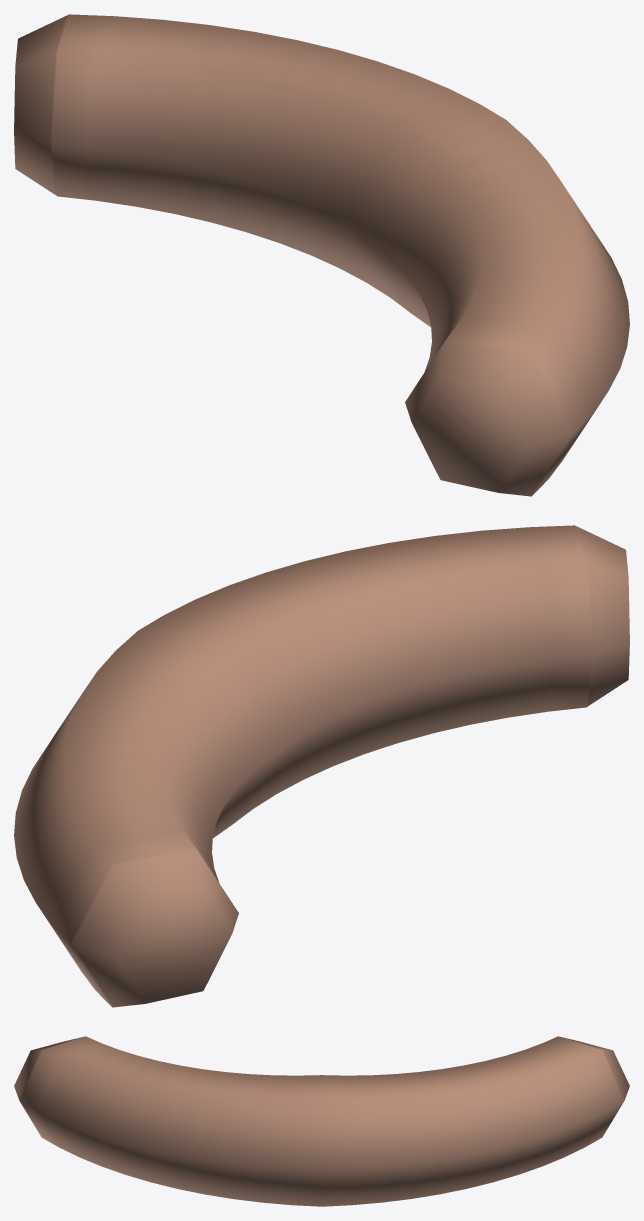
File: meat-sausage.glb
The picture shows the model from 3 angles, top to bottom: view 1: azimuth 30°, elevation 25°; view 2: azimuth 150°, elevation 25°; view 3: azimuth 270°, elevation 25°; orthographic projection. The views are drawn at different scales.
Parts seen in each view (by area): view 1: meat-sausage; view 2: meat-sausage; view 3: meat-sausage.
Part boxes in pixels (<box>): meat-sausage: <box>14,14,629,496</box>; meat-sausage: <box>14,525,629,1007</box>; meat-sausage: <box>14,1036,629,1206</box>.
Bounding box in the file's own units: 0.1515 × 0.0727 × 0.3916.
